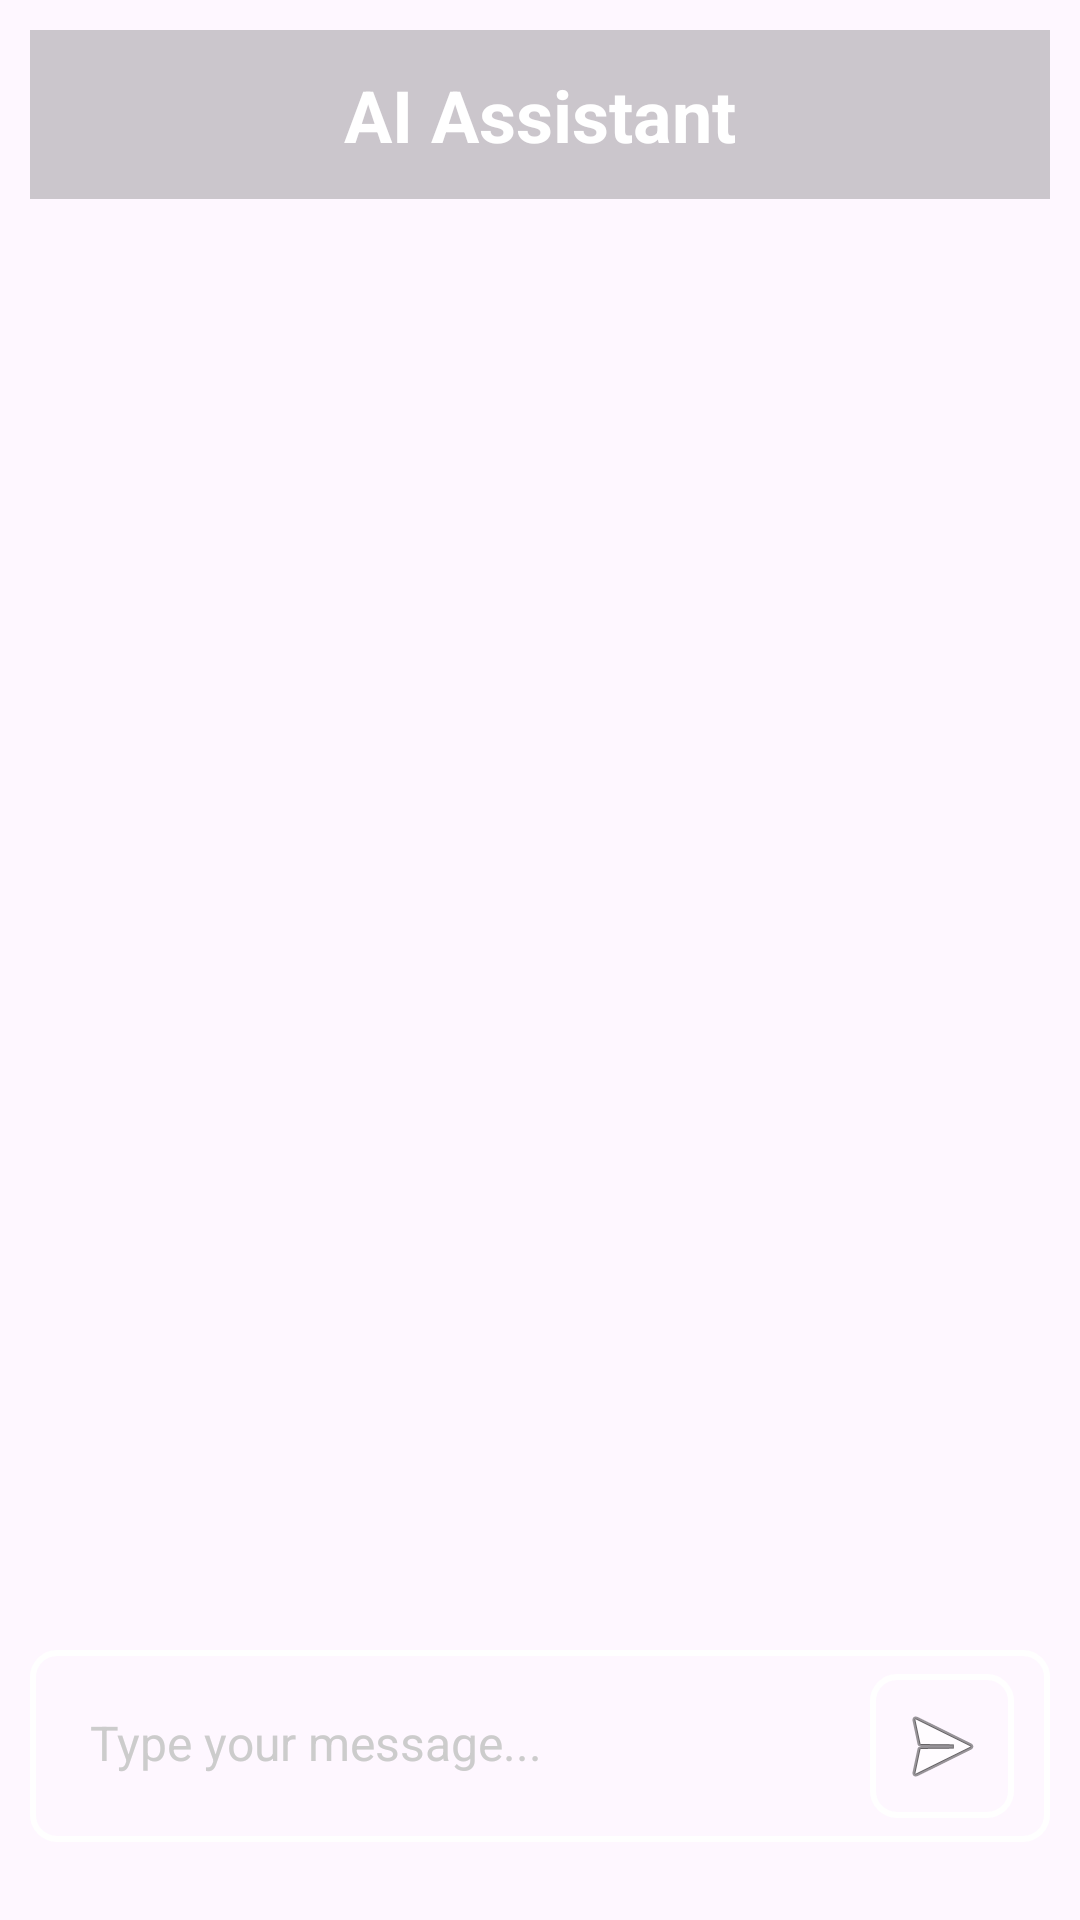

Icon click points for this 1080w x 1920h phone screenshot, format point (x, y):
Send message: point (943, 1746)
